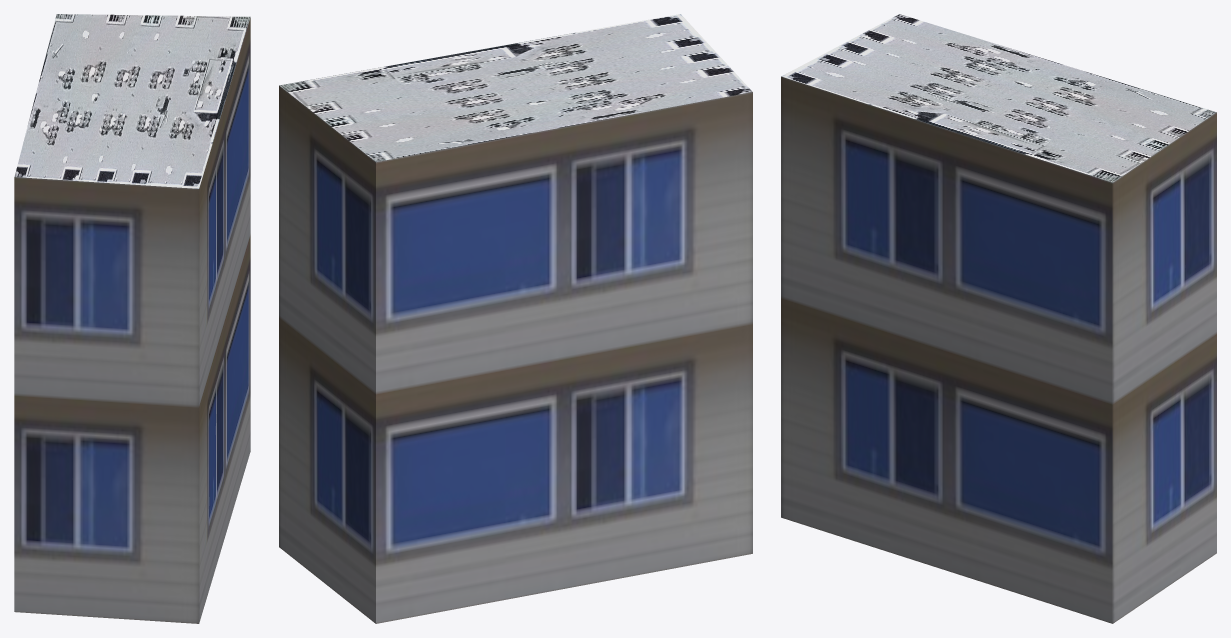
Rendered from ResTex__3306.fbx.
3 views of the same model, side by side, from view 1: azimuth 30°, elevation 25°; view 2: azimuth 150°, elevation 25°; view 3: azimuth 270°, elevation 25° (orthographic). The views are drawn at different scales.
Visible parts, largest first — view 1: CityEngineMaterial_23_m, CityEngineMaterial_m; view 2: CityEngineMaterial_23_m, CityEngineMaterial_m; view 3: CityEngineMaterial_23_m, CityEngineMaterial_m.
Part boxes in pixels (x1,y1,x2,y2): CityEngineMaterial_23_m: (14, 17, 250, 623); CityEngineMaterial_m: (14, 14, 250, 188); CityEngineMaterial_23_m: (279, 85, 752, 623); CityEngineMaterial_m: (279, 14, 752, 161); CityEngineMaterial_23_m: (781, 76, 1216, 623); CityEngineMaterial_m: (781, 14, 1216, 182).
Bounding box in the file's own units: 4.92 × 6 × 5.37.
2 materials, 2 textured.
